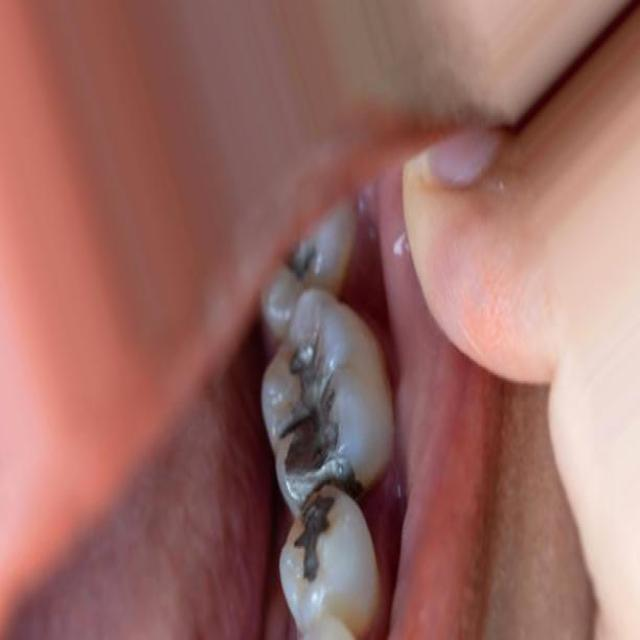caries: (260, 330, 383, 487), (272, 490, 362, 603)
